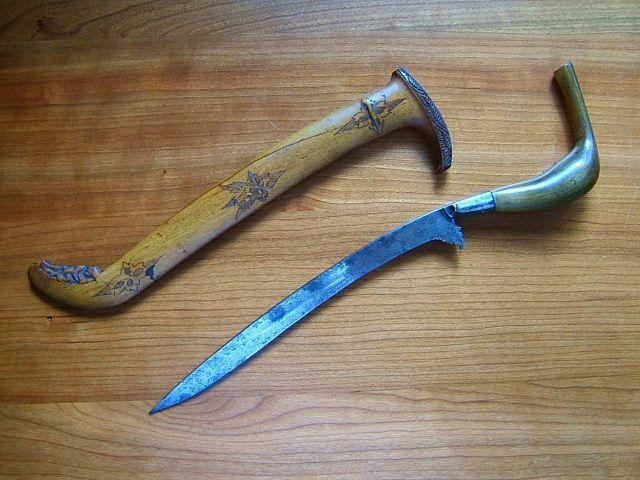espada: (151, 62, 598, 413)
